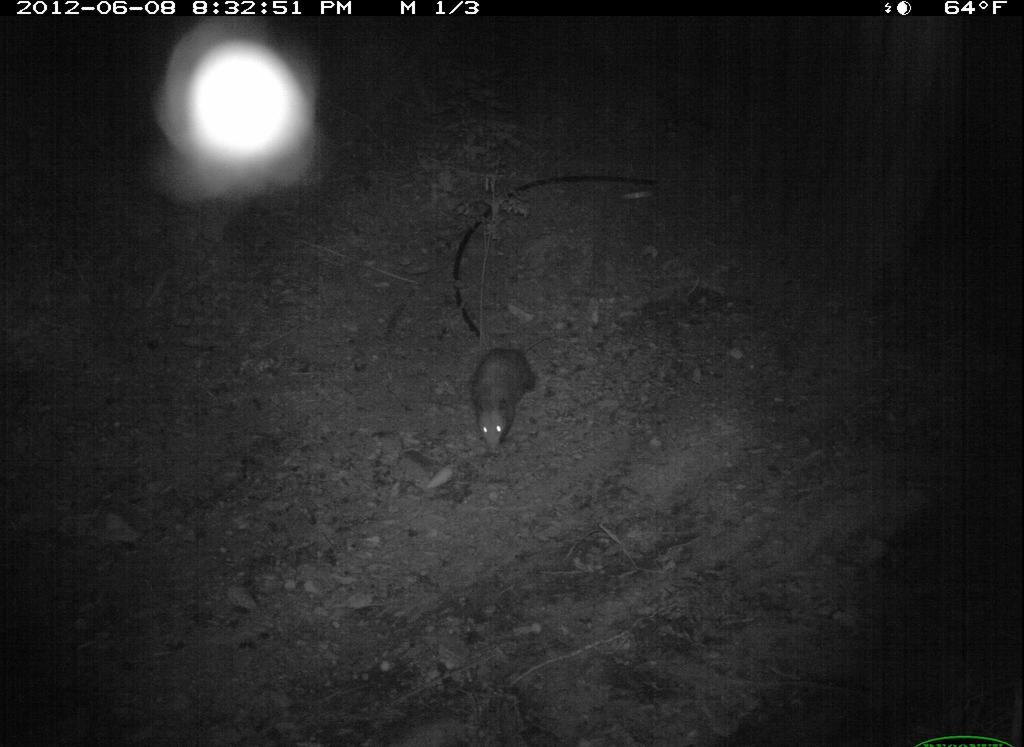opossum: (469, 342, 548, 463)
